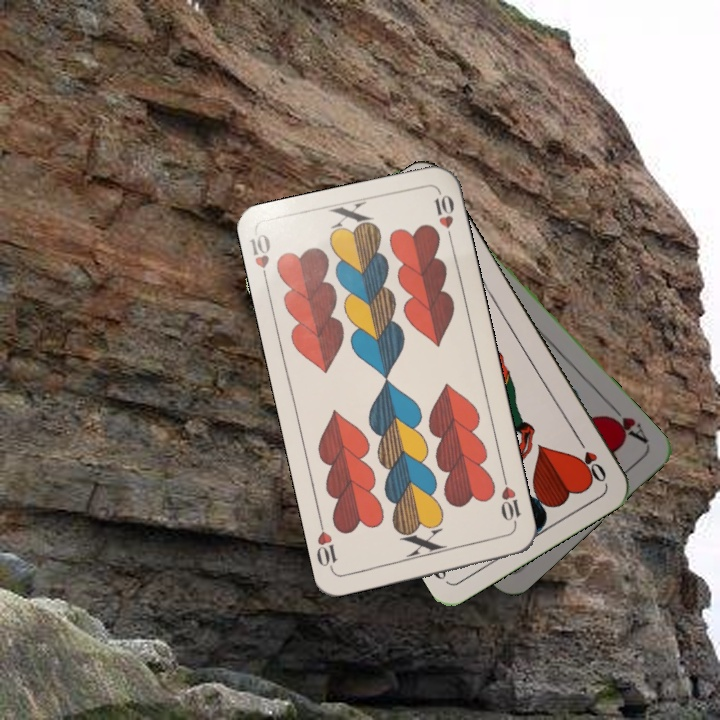H10: (496, 472, 523, 531), (246, 230, 273, 289)
HA: (601, 399, 651, 447)
HO: (572, 432, 609, 485)
